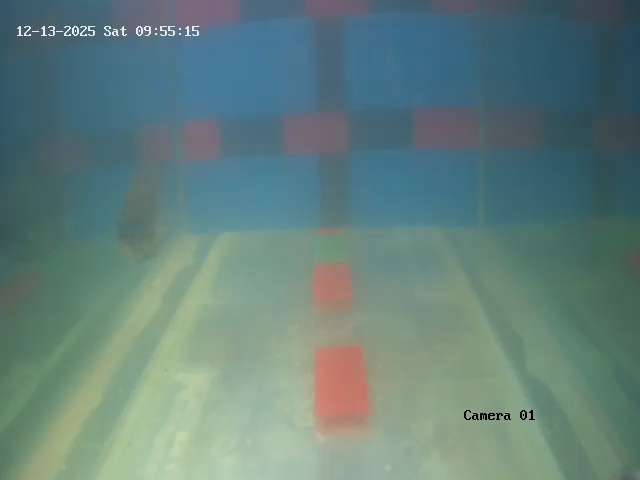fish: (108, 167, 176, 270)
